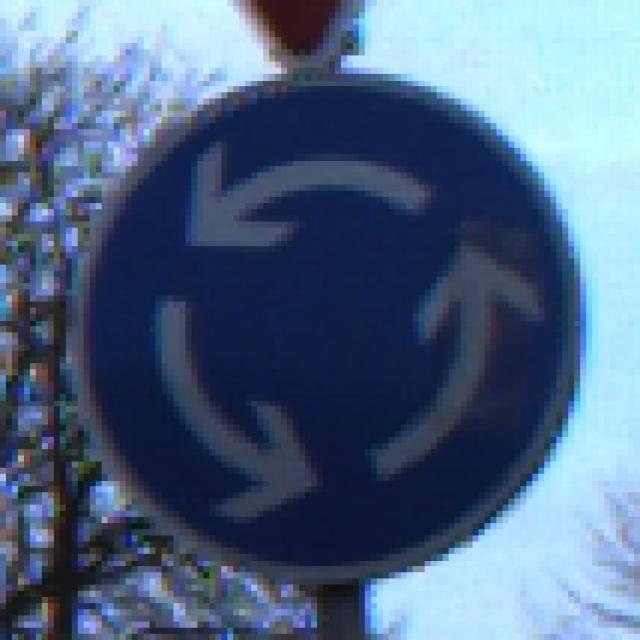roundabout: (68, 72, 594, 584)
